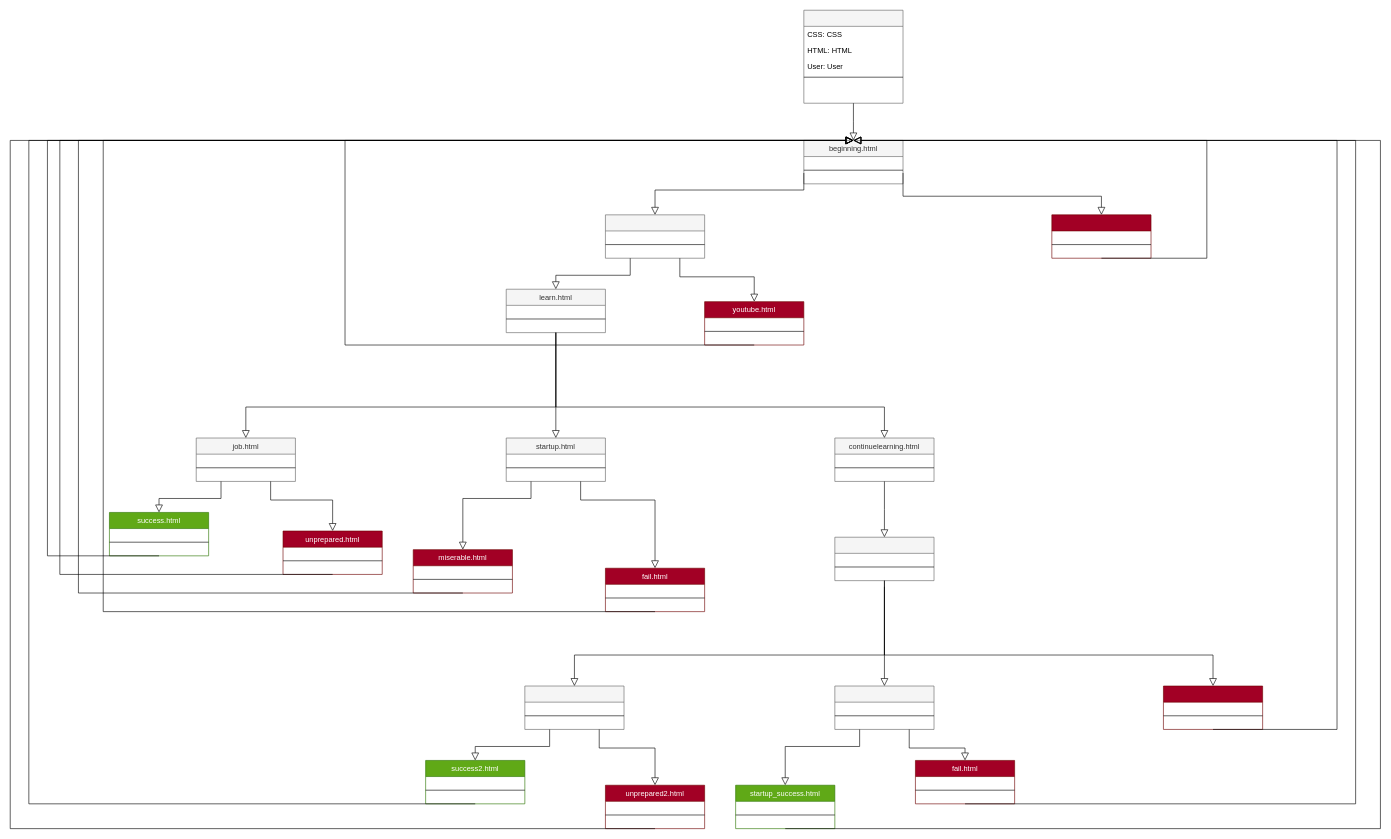
The diagram is 1391 pixels wide and 839 high, and some of its shapes have lost their labels. The shapes that lost their labels are listed below. From the top down, each one's box as (x1, y1, x2, y2) in pixels, then its label:
(803, 10, 903, 103): Life of a Web Programmer
(605, 214, 705, 258): computer.html
(1051, 214, 1151, 258): sleeping.html
(834, 537, 934, 581): learn_php_javascript.html
(524, 685, 624, 729): job2.html
(834, 685, 934, 729): startup2.html
(1163, 685, 1263, 729): continuelearning2.html
